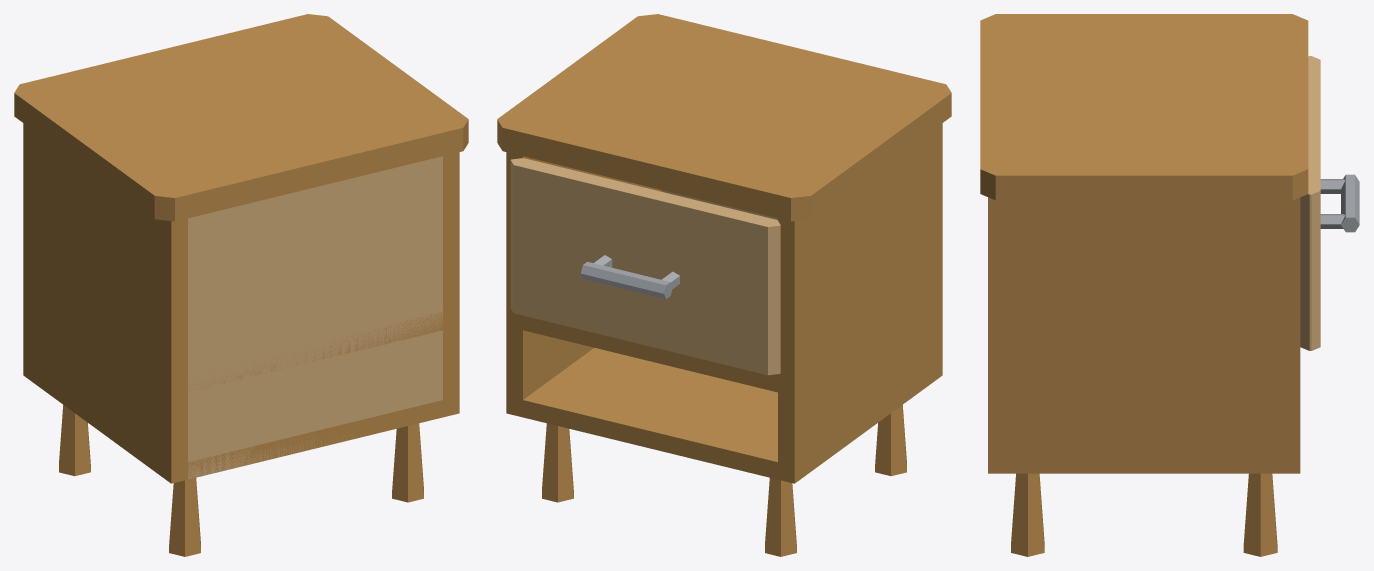
The model's file is SM_LPI_Bed_Nightstand_01.fbx.
3 renders of one model, left to right at view 1: azimuth 30°, elevation 25°; view 2: azimuth 150°, elevation 25°; view 3: azimuth 270°, elevation 25°, orthographic. The views are drawn at different scales.
Parts seen in each view (by area): view 1: SM_LPI_Bed_Nightstand_01; view 2: SM_LPI_Bed_Nightstand_01; view 3: SM_LPI_Bed_Nightstand_01.
Boxes of the visible parts, box(x1,y1,x2,y2) form: SM_LPI_Bed_Nightstand_01: box(14, 14, 468, 556); SM_LPI_Bed_Nightstand_01: box(497, 14, 951, 556); SM_LPI_Bed_Nightstand_01: box(980, 14, 1359, 556).
Size of the model in its own units: 0.49 by 0.56 by 0.486.
